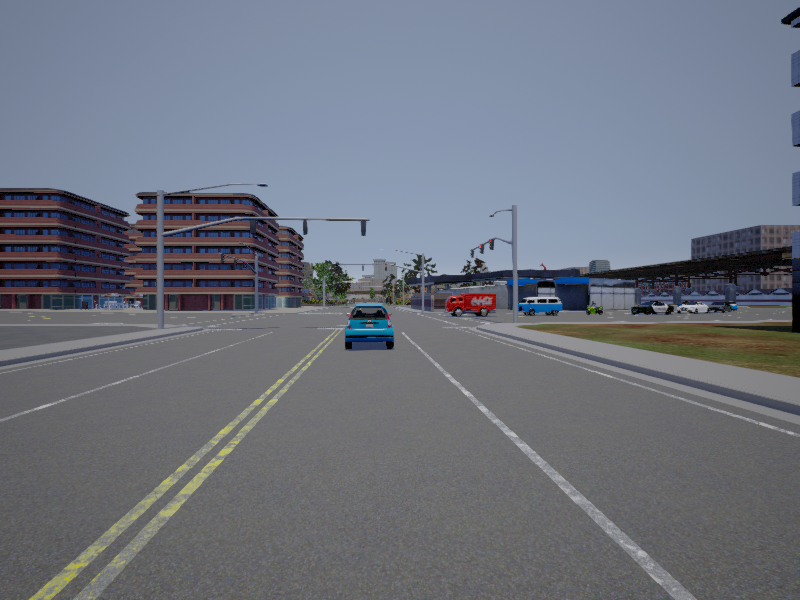Benign: (345, 303, 394, 352), (445, 296, 500, 318), (520, 296, 562, 318), (632, 299, 674, 316), (679, 302, 710, 315), (709, 300, 731, 313)
